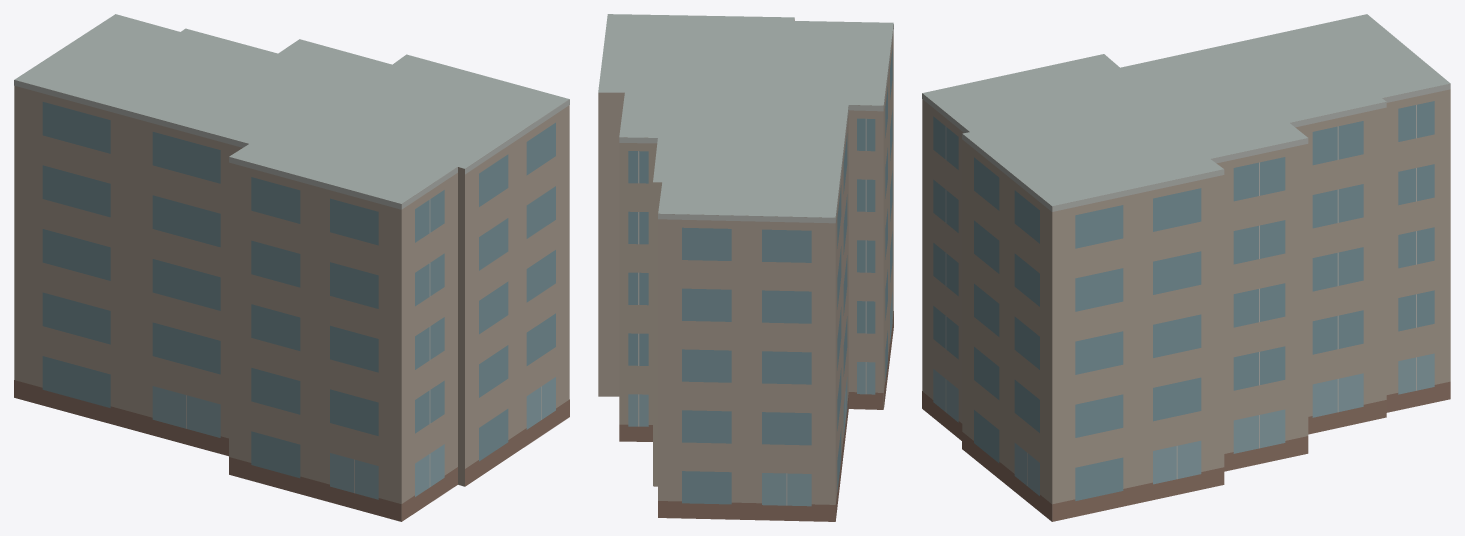
Rendered from survey-upis-32906653.glb.
3 views of the same model, side by side, from view 1: azimuth 30°, elevation 25°; view 2: azimuth 150°, elevation 25°; view 3: azimuth 270°, elevation 25° (orthographic). The views are drawn at different scales.
Visible parts, largest first — view 1: survey-upis-32906653.tmp; view 2: survey-upis-32906653.tmp; view 3: survey-upis-32906653.tmp.
Boxes of the visible parts, x1=… form: survey-upis-32906653.tmp: x1=14, y1=14, x2=569, y2=521; survey-upis-32906653.tmp: x1=598, y1=14, x2=893, y2=521; survey-upis-32906653.tmp: x1=922, y1=14, x2=1450, y2=521.
Size of the model in its own units: 17.52 by 13.4 by 20.35.
